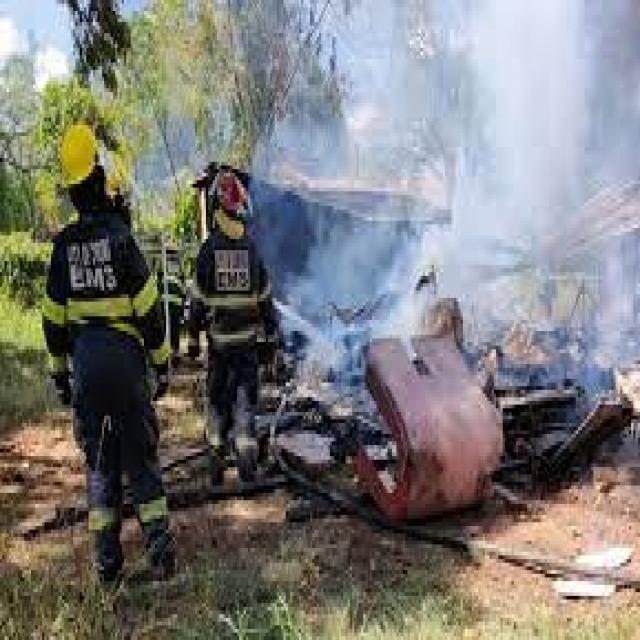smoke: (281, 3, 640, 334)
